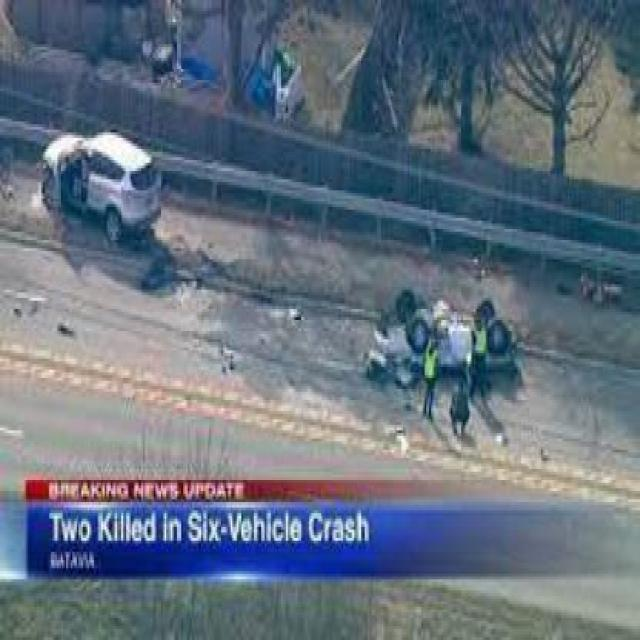accident: (372, 270, 520, 398)
